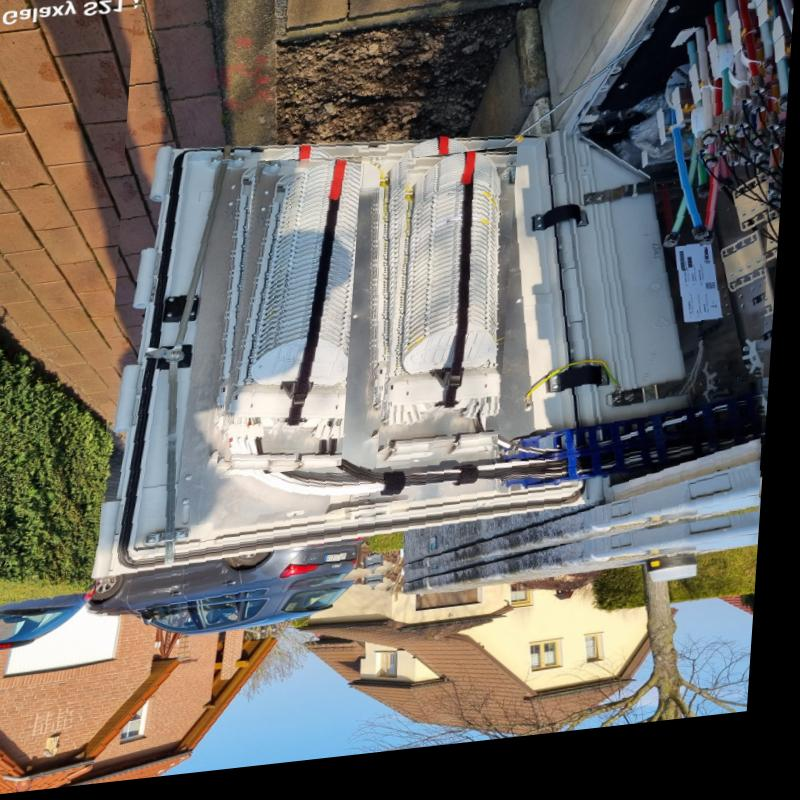NT-Gehause: (105, 0, 781, 582)
Spleiskassetten: (224, 164, 364, 483), (384, 161, 505, 473)
